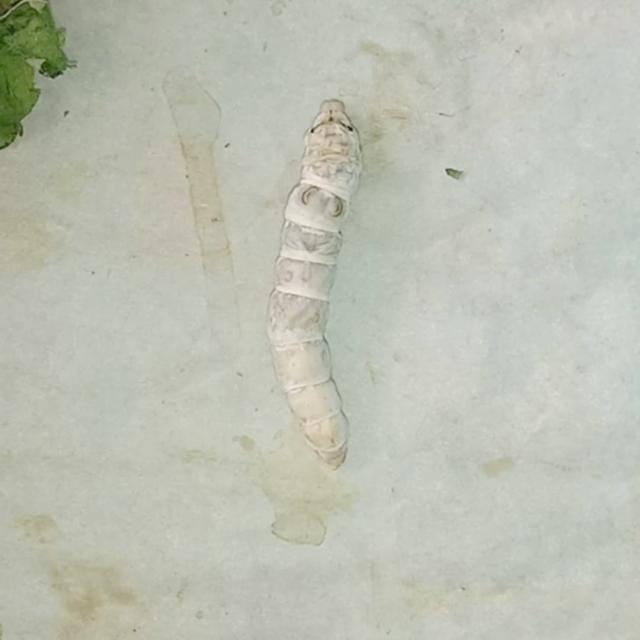Grasserie: (247, 84, 385, 475)
